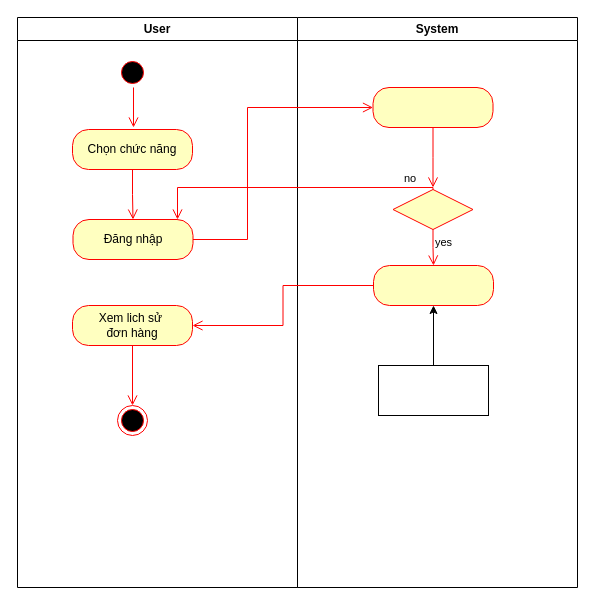
This 595x605 diagram has some shape labels left out. Here are the shapes that lost their labels. From the top down, the centre of each, then its label:
At [432,107]: "HT kiểm tra đăng nhập".
At [433,285]: "Hiển thị danh sách đơn hàng".
At [433,390]: "Đơn hàng".
